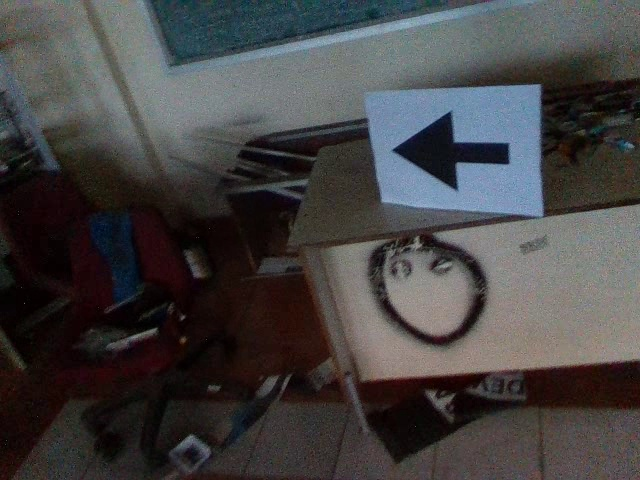Left: (387, 106, 514, 192)
